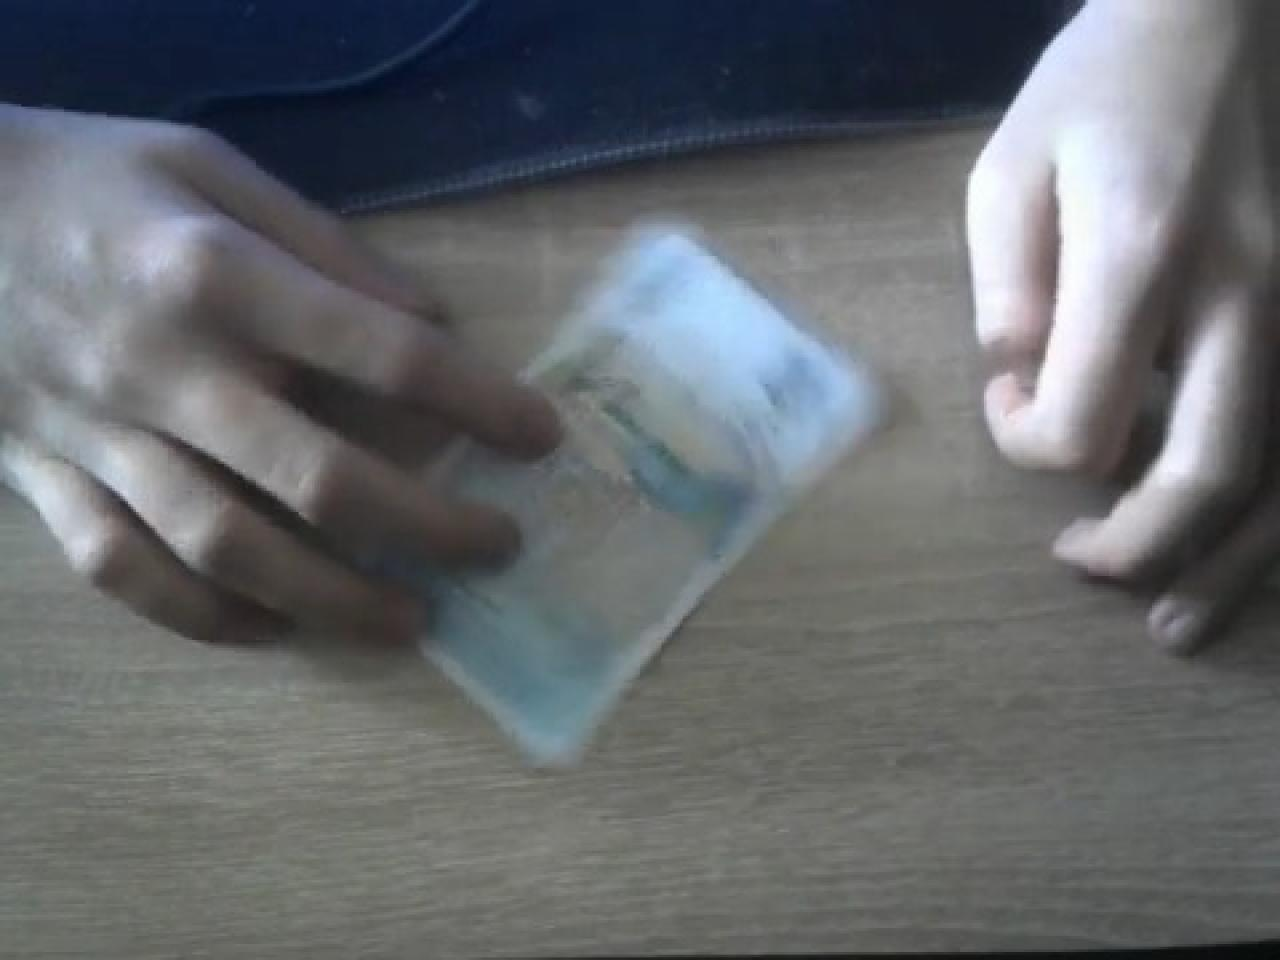20leva: (386, 216, 891, 773)
